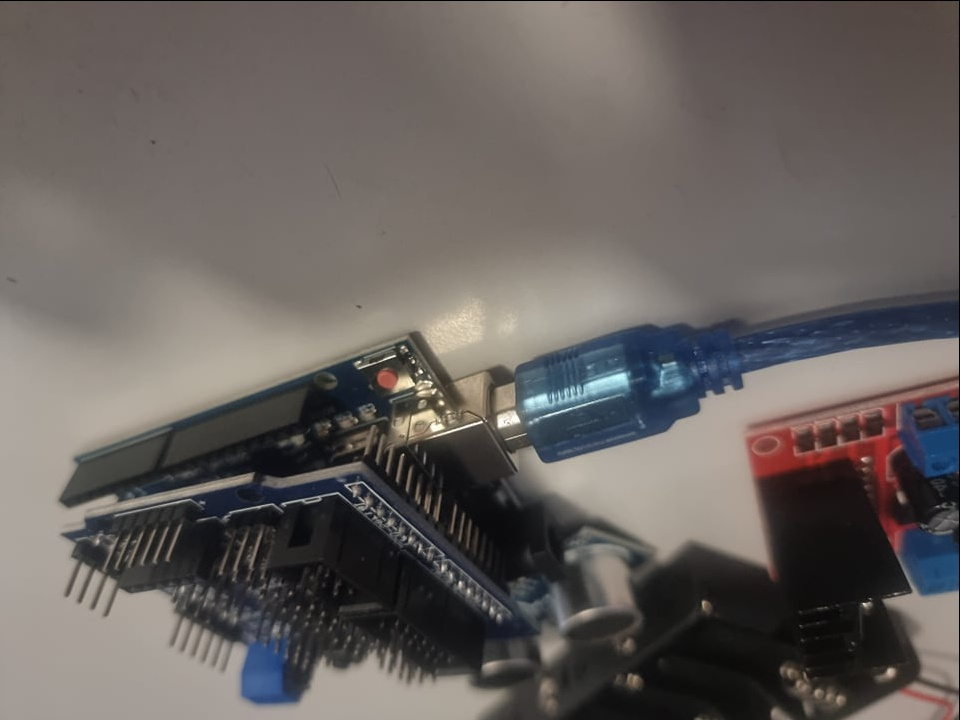5V EXPANSION: (61, 500, 507, 704)
BATTERY BOX: (553, 546, 887, 719)
MOTOR: (741, 391, 960, 680)
SENSOR: (512, 502, 651, 685)
UNO R3: (83, 329, 525, 504)
